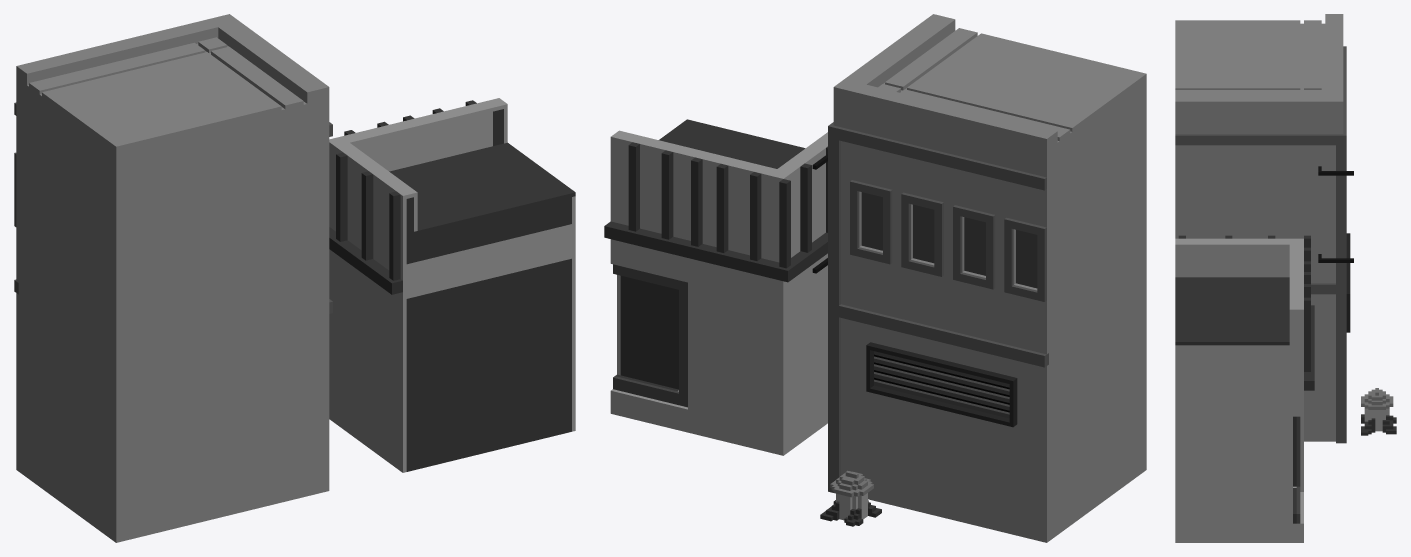
File: casa4.obj
3 renders of one model, left to right at view 1: azimuth 30°, elevation 25°; view 2: azimuth 150°, elevation 25°; view 3: azimuth 270°, elevation 25°, orthographic. The views are drawn at different scales.
Bounding box in the file's own units: 125 × 105 × 62.
1 material, 1 textured.
